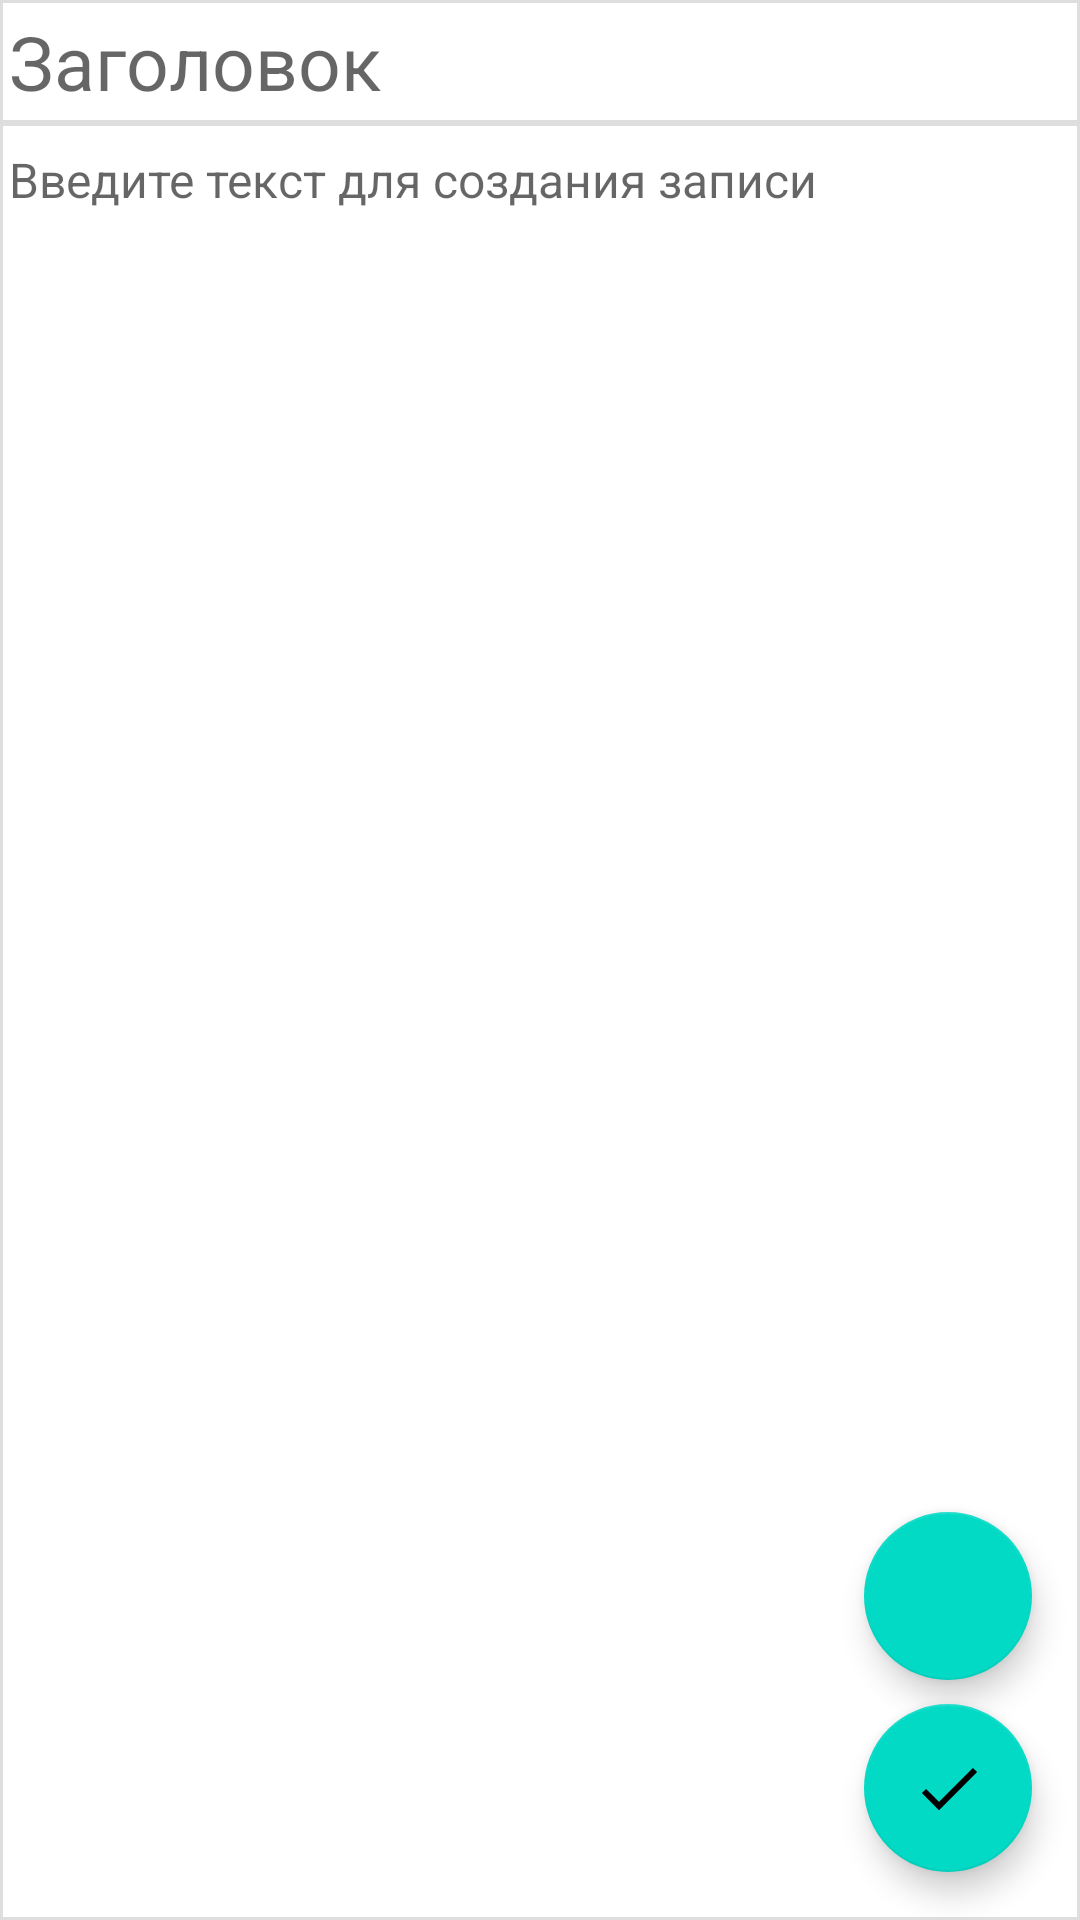

Point at icon controls on the screen. Image size 1080*1920, points as point (x, y).
done: point (948, 1788)
